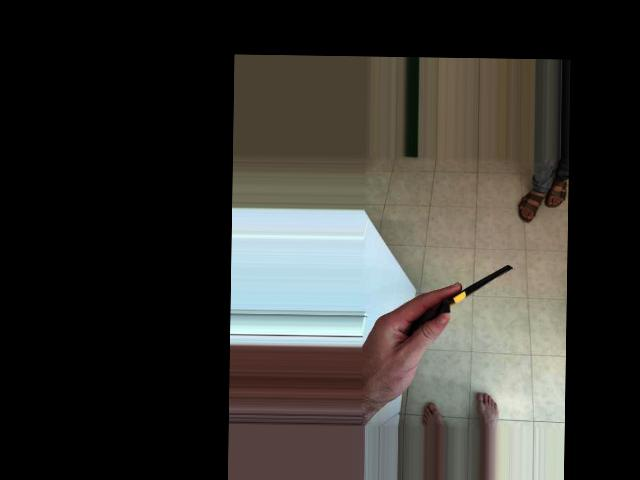chocolate: (470, 209, 540, 316)
